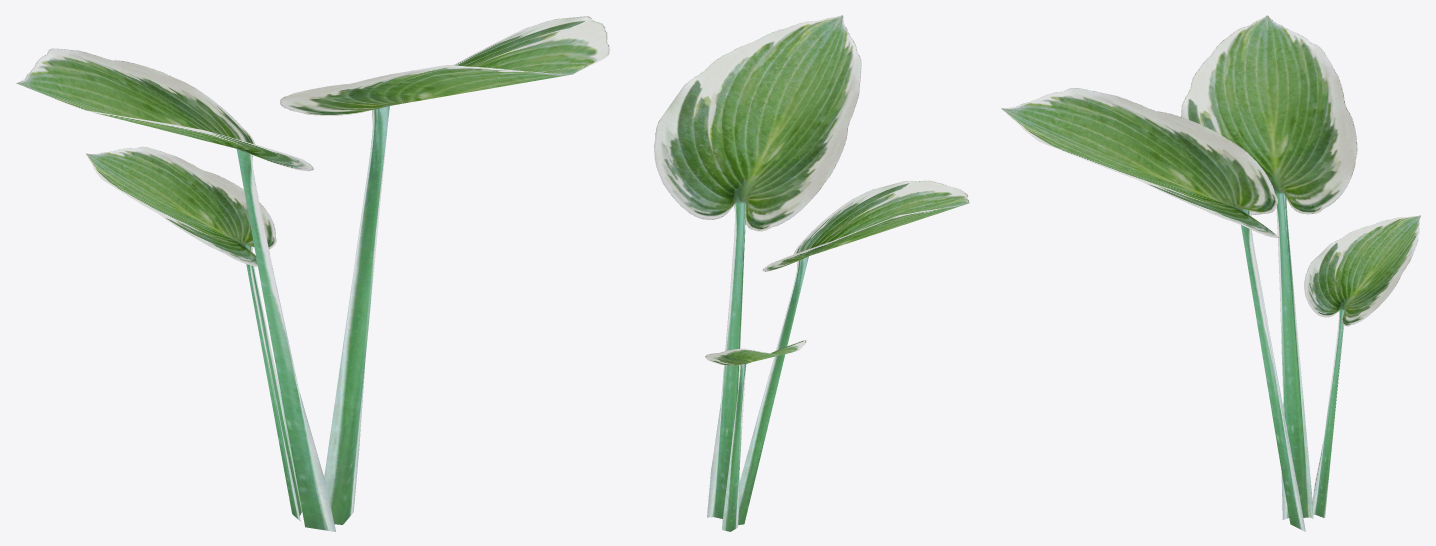
File: plant_small_wg_05B.fbx
3 renders of one model, left to right at view 1: azimuth 30°, elevation 25°; view 2: azimuth 150°, elevation 25°; view 3: azimuth 270°, elevation 25°, orthographic. The views are drawn at different scales.
Parts seen in each view (by area): view 1: plant_small_wg_05B; view 2: plant_small_wg_05B; view 3: plant_small_wg_05B.
Part boxes in pixels (x1,y1,x2,y2): plant_small_wg_05B: (16, 16, 609, 531); plant_small_wg_05B: (654, 15, 969, 531); plant_small_wg_05B: (1001, 15, 1420, 531).
Bounding box in the file's own units: 35.32 × 39.25 × 35.2.
